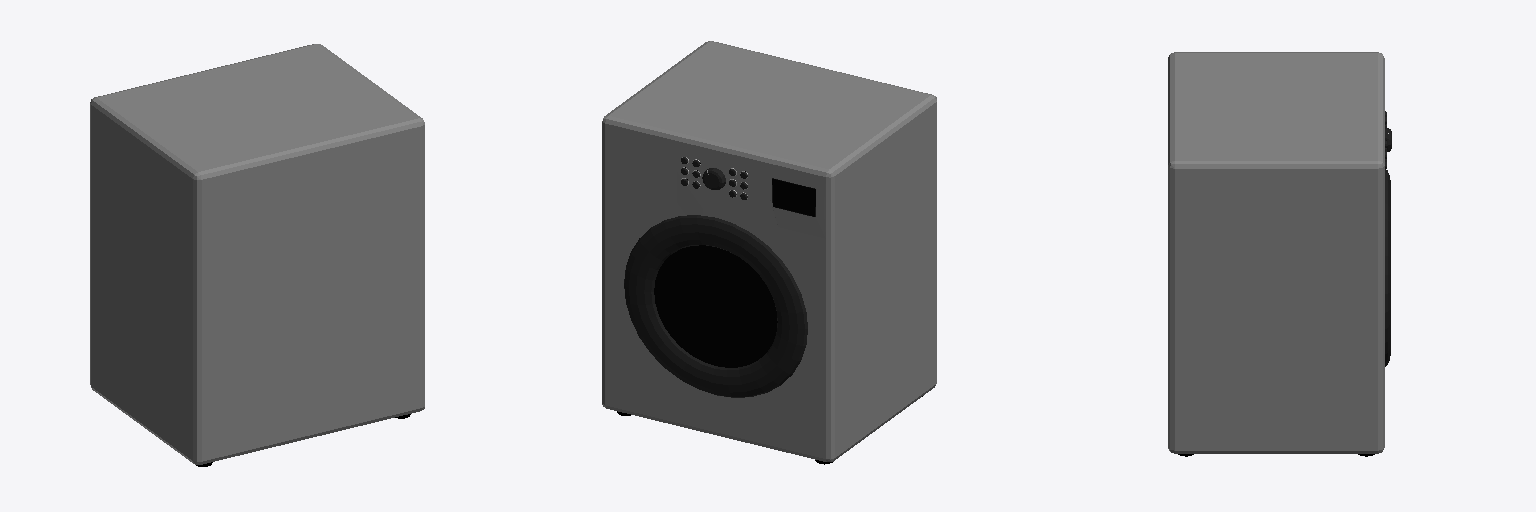
The model's file is Washing_Machine.obj.
The picture shows the model from 3 angles: view 1: azimuth 30°, elevation 25°; view 2: azimuth 150°, elevation 25°; view 3: azimuth 270°, elevation 25°; orthographic projection.
Visible parts, largest first — view 1: Cube.336; view 2: Cube.336; view 3: Cube.336.
Part boxes in pixels (x1,y1,x2,y2): Cube.336: (90, 44, 424, 466); Cube.336: (602, 41, 936, 464); Cube.336: (1168, 52, 1391, 456).
Size of the model in its own units: 561 by 690 by 468.